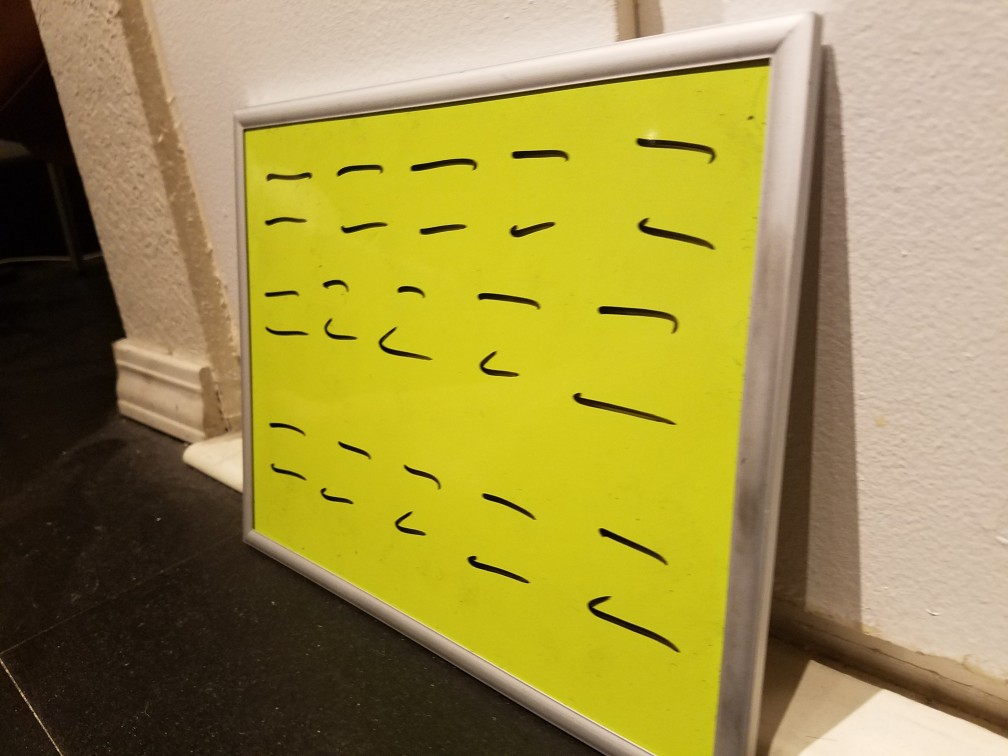=: (552, 288, 701, 439), (613, 113, 744, 269), (559, 513, 687, 660), (458, 276, 559, 394), (495, 130, 585, 250), (459, 477, 545, 597), (403, 148, 480, 252), (366, 276, 450, 369), (327, 141, 397, 250), (380, 453, 447, 553), (313, 427, 385, 520), (252, 148, 312, 239), (256, 407, 316, 488), (253, 270, 307, 348), (311, 268, 358, 351)
